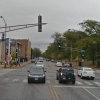Traffic light: (34, 9, 49, 37)
